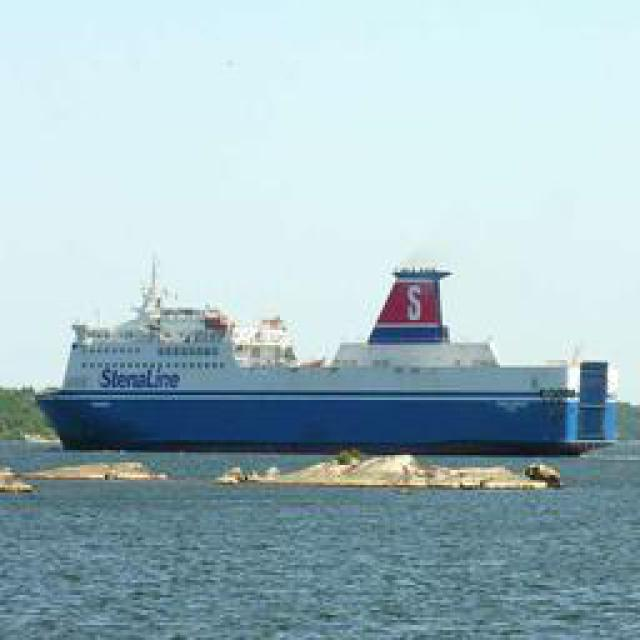Ship: (41, 248, 609, 453)
